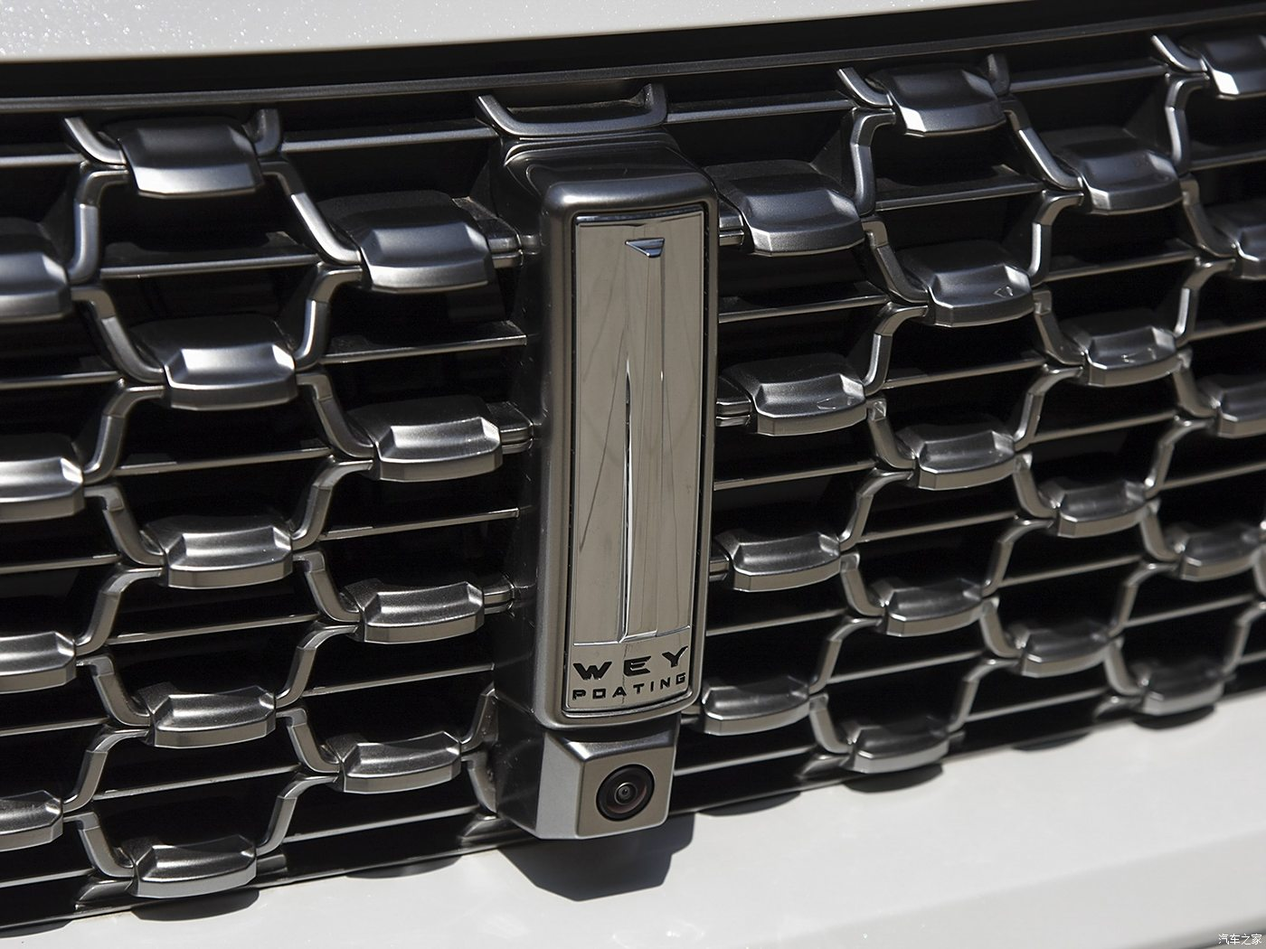WEY: (572, 212, 702, 708)
